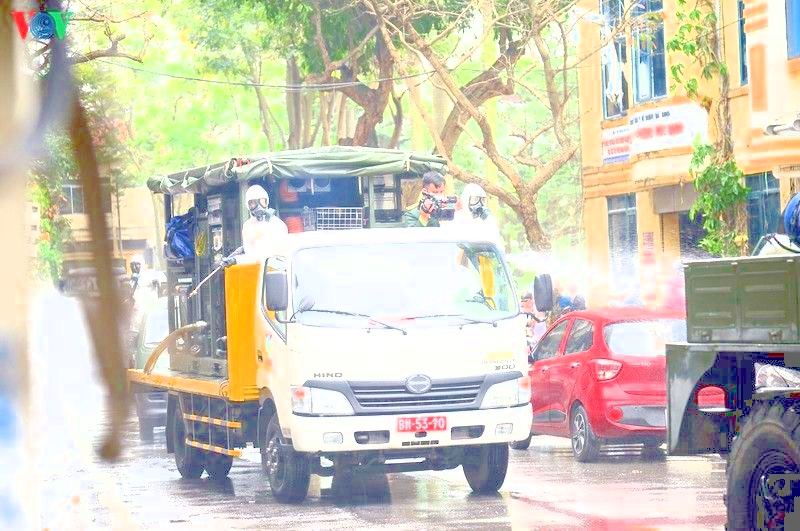plate: (393, 412, 451, 436)
